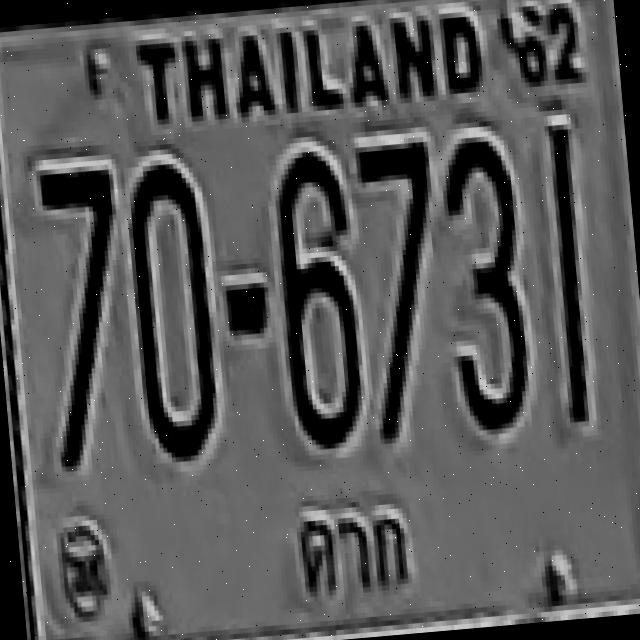0: (121, 156, 223, 460)
1: (544, 122, 588, 374)
3: (434, 132, 532, 434)
6: (267, 146, 365, 450)
7: (352, 136, 450, 440), (35, 164, 133, 467), (354, 139, 438, 326)
Tak: (278, 484, 426, 608)
